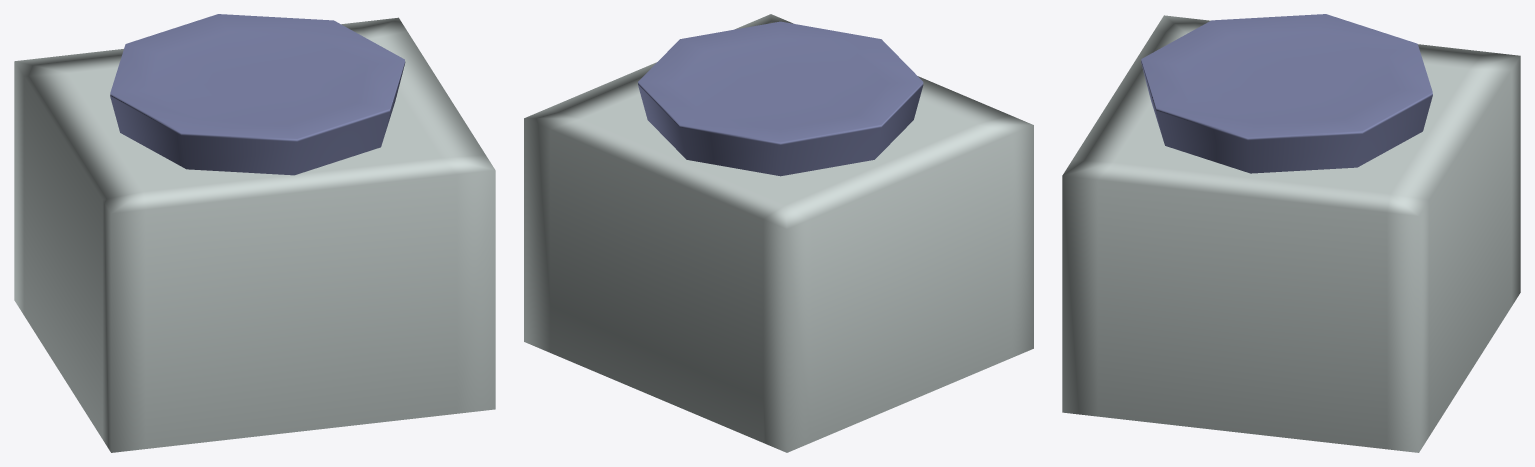
File: DryPrawnJar.fbx
The picture shows the model from 3 angles, left to right: view 1: azimuth 30°, elevation 25°; view 2: azimuth 150°, elevation 25°; view 3: azimuth 270°, elevation 25°; orthographic projection. The views are drawn at different scales.
Parts seen in each view (by area): view 1: Prawn_01, Prawn_02; view 2: Prawn_01, Prawn_02; view 3: Prawn_01, Prawn_02.
Part boxes in pixels (<box>): Prawn_01: <box>14,17,495,452</box>; Prawn_02: <box>110,14,405,175</box>; Prawn_01: <box>524,14,1033,452</box>; Prawn_02: <box>638,21,923,176</box>; Prawn_01: <box>1062,15,1520,452</box>; Prawn_02: <box>1141,14,1432,173</box>.
Bounding box in the file's own units: 0.85 × 0.5464 × 0.8196.
